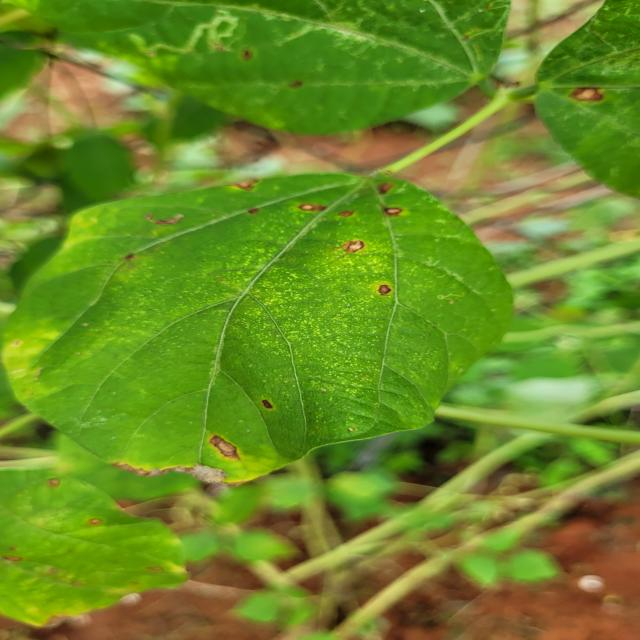Dolicos bean_cercospora leaf spot: (1, 165, 508, 485), (0, 0, 497, 130), (0, 467, 201, 624)
